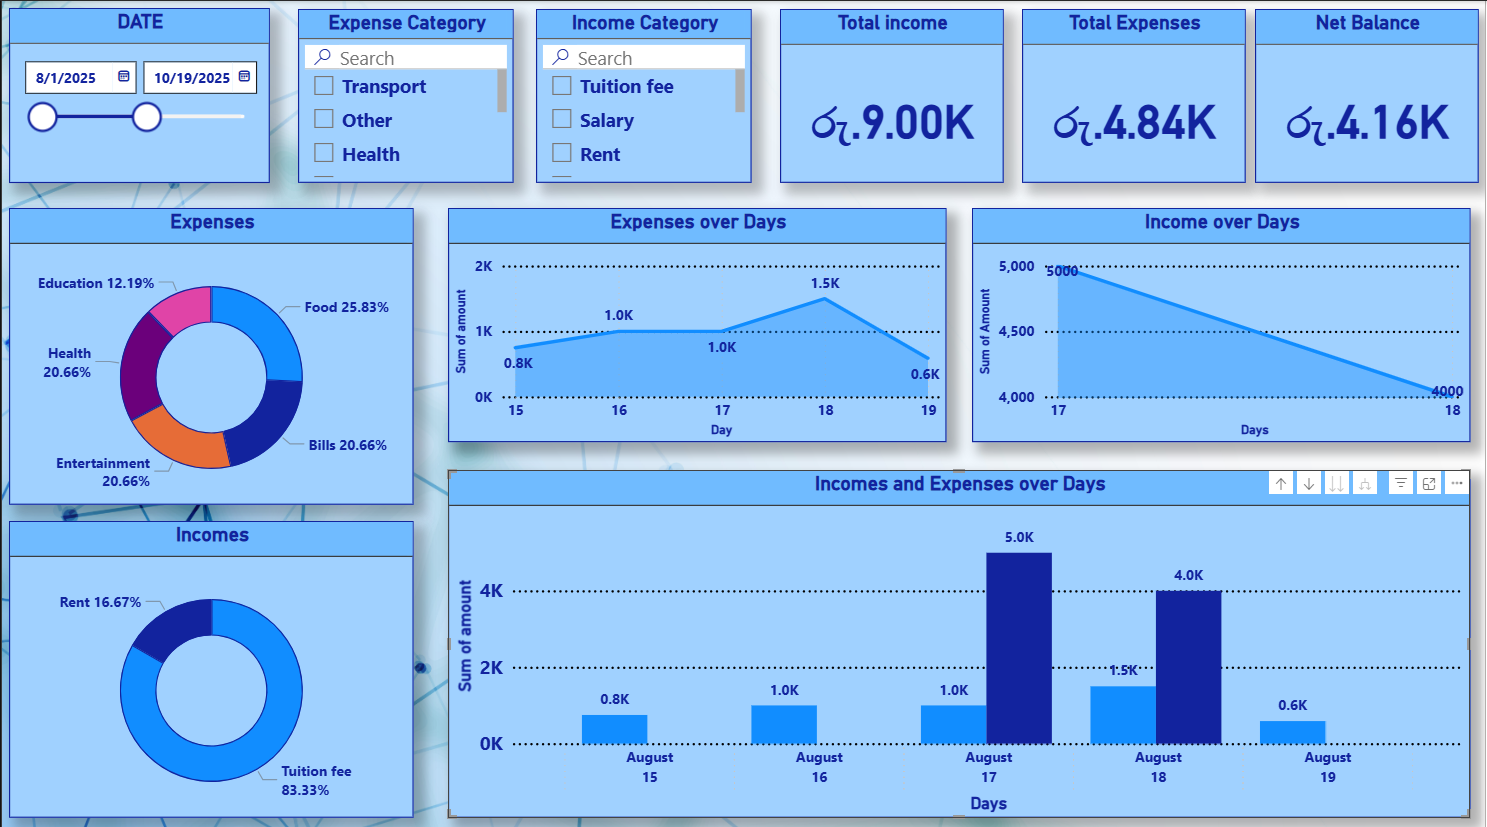

Layout of this report page (visuals, bound fields, positions):
{"tool":"powerbi","page":{"name":"Page 1","canvas":[1280,720],"ordinal":0},"visuals":[{"type":"slicer","title":"DATE","fields":{"Values":["Calendar.Date"]},"box":[6.4,6.4,224.5,150.9],"z":0},{"type":"card","title":"Total income","fields":{"Values":["Calendar.Total Income"]},"box":[670.9,7.3,192.7,150],"z":1000},{"type":"card","title":"Total Expenses","fields":{"Values":["Calendar.Total Expense"]},"box":[880,7.3,192.7,150],"z":2000},{"type":"card","title":"Net Balance","fields":{"Values":["Calendar.Net Balance"]},"box":[1080.9,7.3,192.7,150],"z":3000},{"type":"slicer","title":"Expense Category","fields":{"Values":["expense_db categories.name"]},"box":[255.5,7.3,186.4,150],"z":4000},{"type":"slicer","title":"Income Category","fields":{"Values":["expense_db income_categories.name"]},"box":[460.9,7.3,186.4,150],"z":5000},{"type":"donutChart","title":"Expenses","fields":{"Category":["expense_db categories.name"],"Y":["Sum(expense_db expenses.amount)"]},"box":[6.4,178.2,349.1,256.4],"z":6000},{"type":"donutChart","title":"Incomes","fields":{"Category":["expense_db income_categories.name"],"Y":["Sum(expense_db incomes.amount)"]},"box":[6.4,448.2,349.1,256.4],"z":7000},{"type":"lineChart","title":"Expenses over Days","fields":{"Category":["Calendar.Date.Variation.Date Hierarchy.Day"],"Y":["Sum(expense_db expenses.amount)"]},"box":[384.5,178.2,430,201.8],"z":8000},{"type":"lineChart","title":"Income over Days","fields":{"Category":["Calendar.Date.Variation.Date Hierarchy.Day"],"Y":["Sum(expense_db incomes.amount)"]},"box":[836.4,178.2,430,201.8],"z":9000},{"type":"clusteredColumnChart","title":"Incomes and Expenses over Months","fields":{"Y":["Sum(expense_db expenses.amount)","Sum(expense_db incomes.amount)"],"Category":["Calendar.Month"]},"box":[384.5,404.5,881.8,300],"z":10000}]}

Visuals, with their boxes in screenshot pixels (x1, y1, x2, y2), scaled from the page's 1280x720 canvas onto the 1487x827 screenshot:
"DATE" slicer: select_region(7, 7, 268, 181)
"Total income" card: select_region(779, 8, 1003, 181)
"Total Expenses" card: select_region(1022, 8, 1246, 181)
"Net Balance" card: select_region(1256, 8, 1480, 181)
"Expense Category" slicer: select_region(297, 8, 513, 181)
"Income Category" slicer: select_region(535, 8, 752, 181)
"Expenses" donutChart: select_region(7, 205, 413, 499)
"Incomes" donutChart: select_region(7, 515, 413, 809)
"Expenses over Days" lineChart: select_region(447, 205, 946, 436)
"Income over Days" lineChart: select_region(972, 205, 1471, 436)
"Incomes and Expenses over Months" clusteredColumnChart: select_region(447, 465, 1471, 809)
